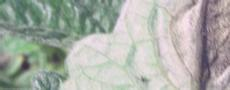Tomato leaf late blight: (49, 0, 230, 90)
